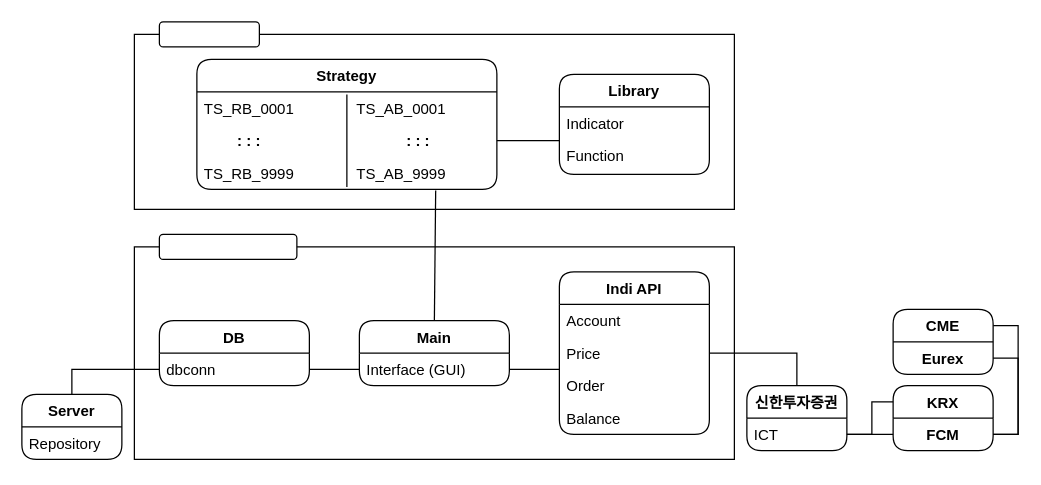
This 1041x485 diagram has some shape labels left out. The centre of each missing label's shape, as x and y in pixels:
Framework: point (227, 246)
System: point (208, 34)
